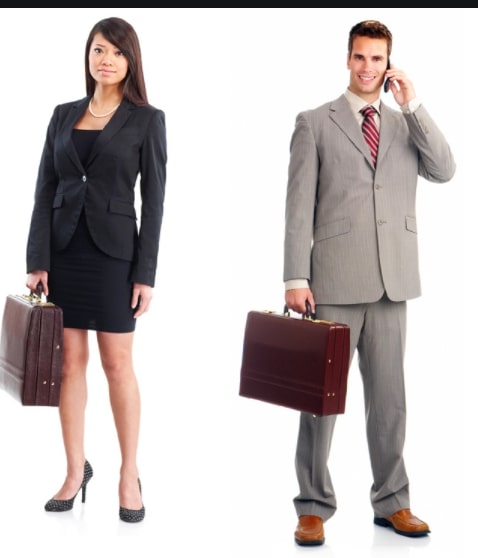Caution: (24, 15, 455, 548)
